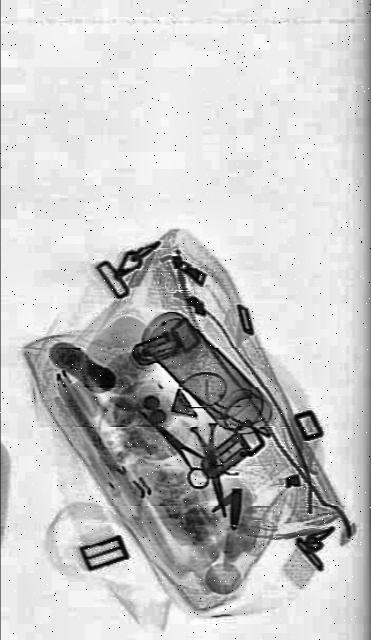Scissors: (136, 387, 223, 499)
